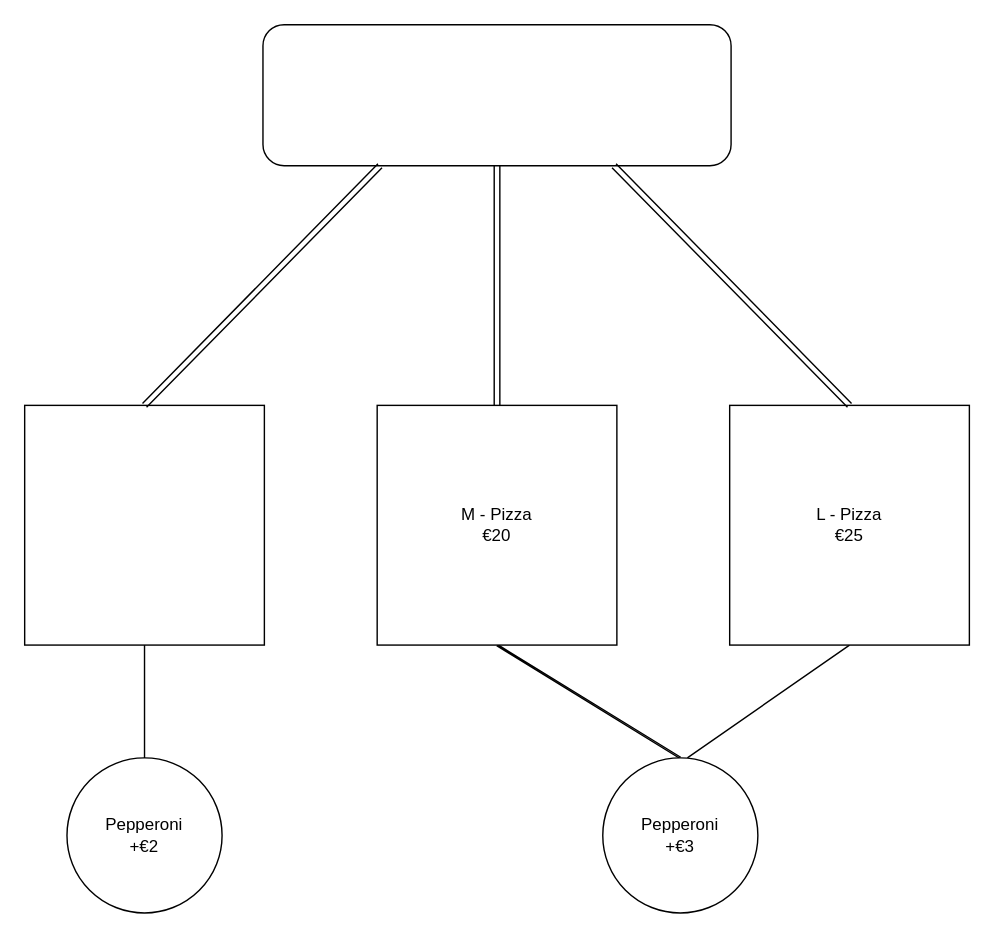
Some shapes in this 994 by 938 pixel diagram are drawn without their labels. Each missing label, with the centre of its shape:
"Extra Cheese +€1" belongs at point 496,94.
"S - Pizza €15" belongs at point 143,524.
